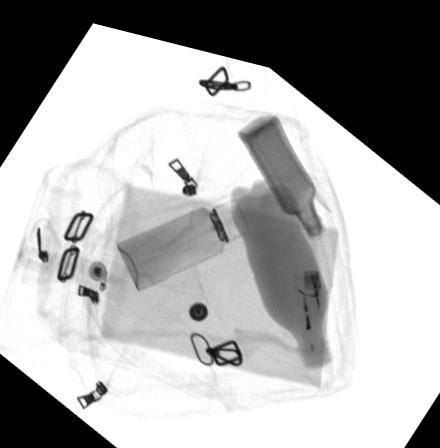Lighter: (291, 253, 330, 338)
Sprayer: (115, 185, 248, 282)
